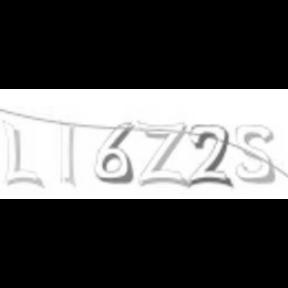2: (188, 123, 232, 189)
6: (93, 119, 135, 186)
I: (57, 116, 81, 190)
L: (3, 118, 45, 188)
S: (234, 123, 274, 185)
Z: (136, 118, 188, 188)
